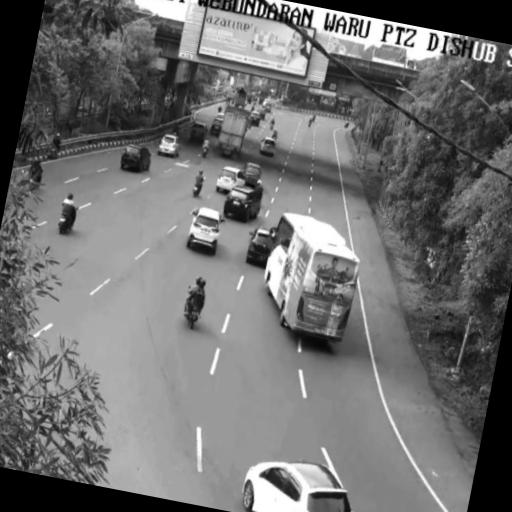bus: (264, 213, 360, 341)
car: (243, 462, 352, 511), (187, 208, 223, 254), (224, 186, 262, 222), (246, 228, 274, 265), (120, 145, 151, 171), (216, 166, 244, 191), (158, 134, 179, 157), (243, 163, 261, 187), (189, 122, 207, 142), (210, 113, 224, 135), (260, 137, 276, 156), (248, 110, 262, 127), (258, 108, 266, 120), (264, 103, 272, 113)
motorcycle: (184, 306, 200, 328), (186, 307, 199, 328), (58, 214, 71, 234), (48, 146, 58, 159), (193, 184, 202, 197), (201, 144, 209, 157), (307, 118, 313, 128), (272, 131, 278, 141), (270, 121, 274, 130), (344, 122, 349, 128), (312, 115, 315, 121)
